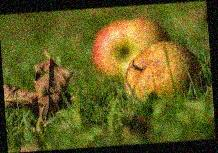rotten apple: (121, 42, 202, 95)
